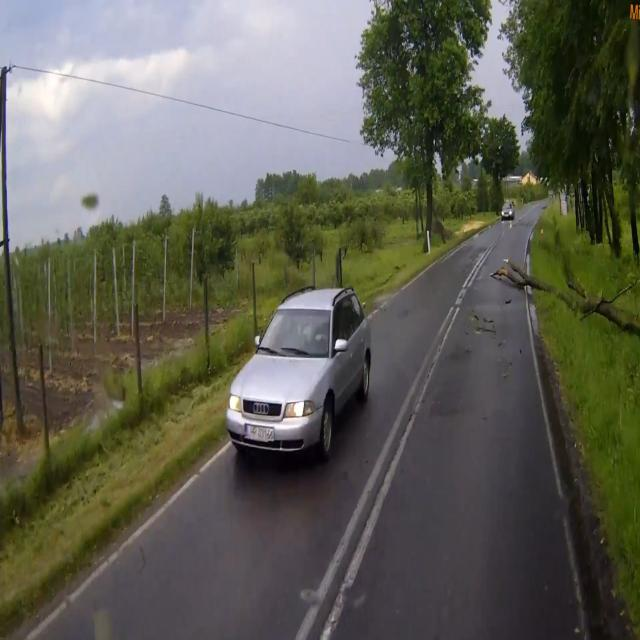fallen_tree: (490, 258, 640, 334)
